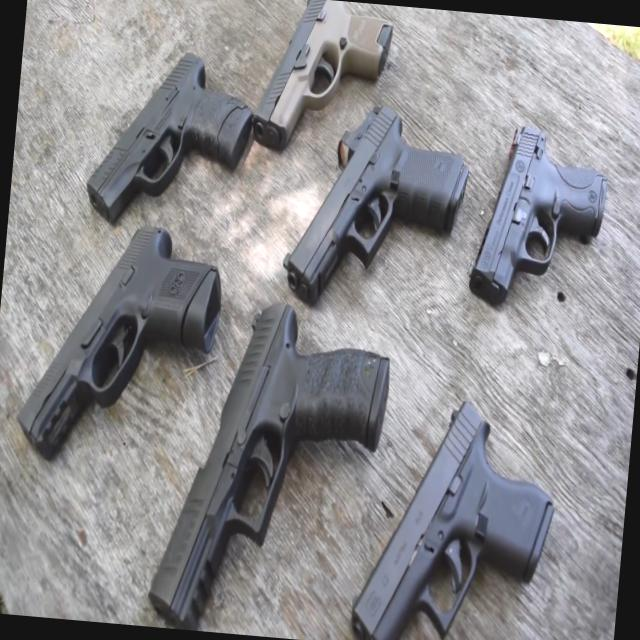handgun: (150, 286, 413, 586), (340, 372, 573, 639), (11, 198, 234, 455), (74, 17, 281, 263), (278, 102, 480, 304), (470, 90, 620, 328), (240, 0, 406, 173)
